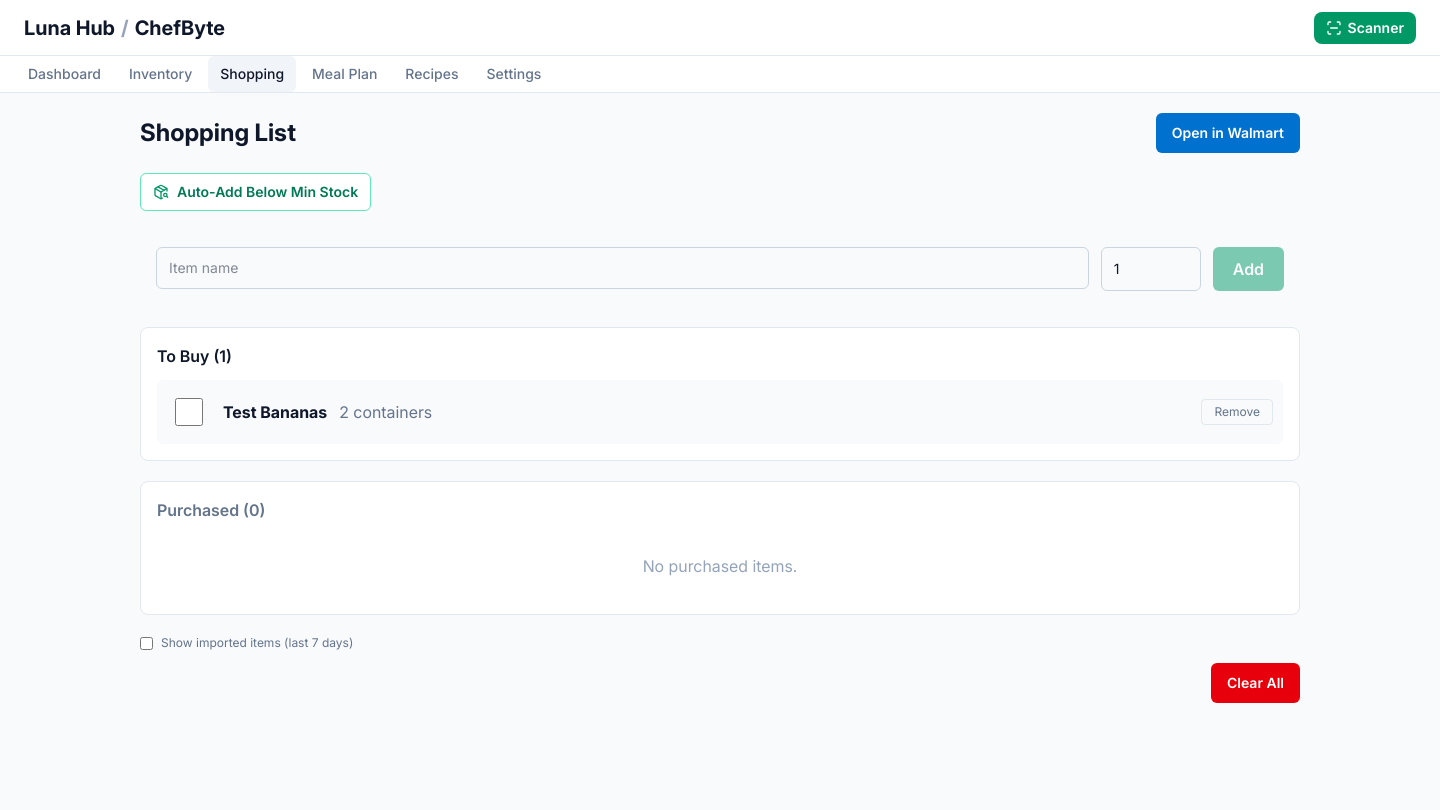
ShoppingPage optimistic rollback on toggle-purchased › does NOT roll back when the mutation succeeds (success-path guard)
What coordinates should you click on to do the following:
click the checkbox named "Mark Test Bananas as purchased"
I would click on:
 (189, 412)
Its box is [175,398,203,426].
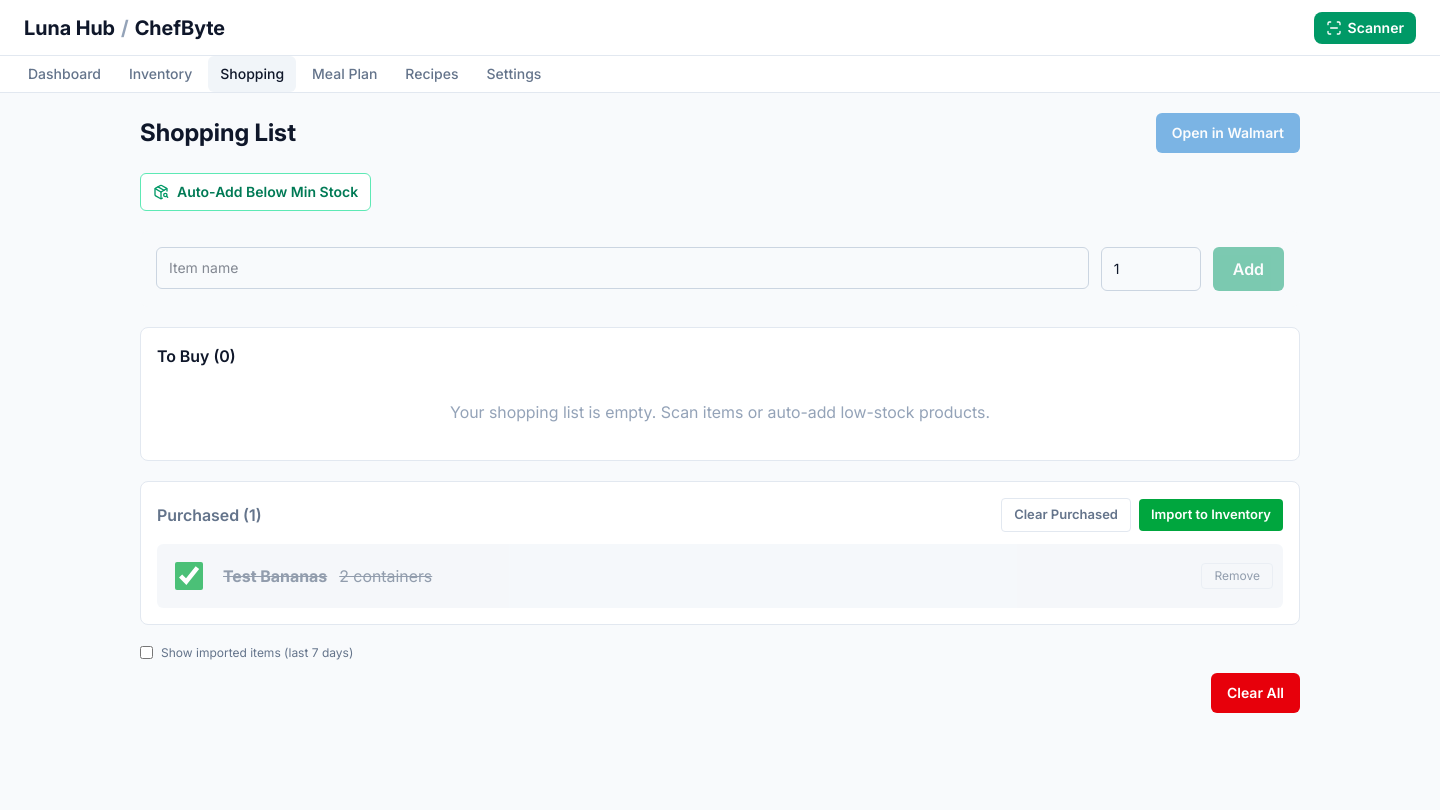
Now the element with test id "purchased-section" shows "Test Bananas", box [223,566,327,586]
